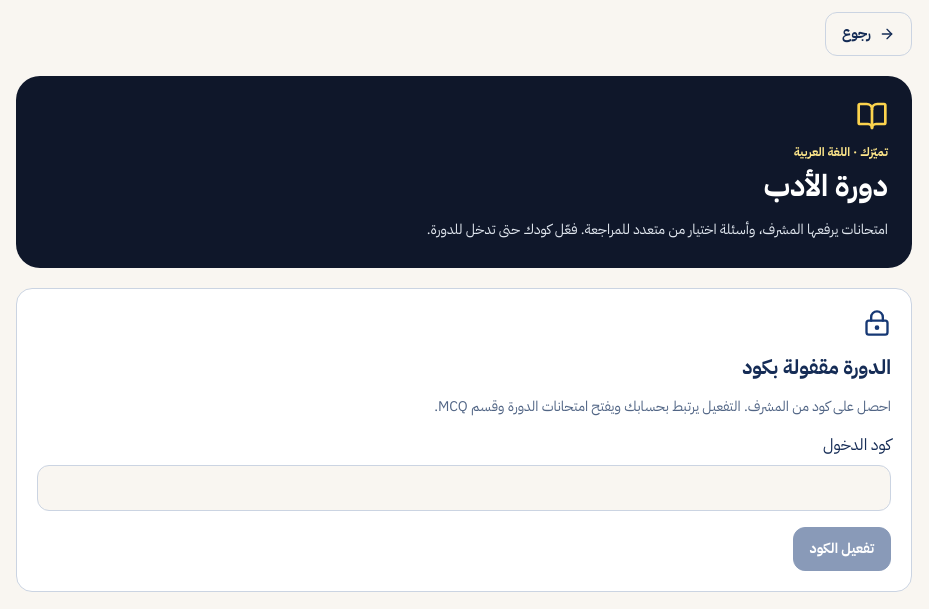
Test: literature course › opens the course after successful code redemption
Type "ADAB-VALID" into the field labelled "كود الدخول". click: (464, 488)
box: 37,465 -> 891,511
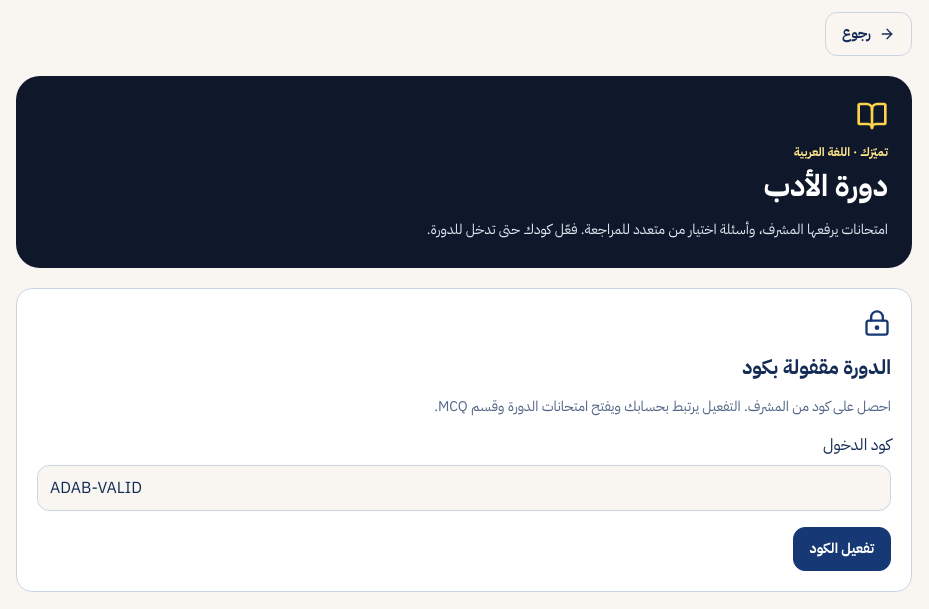
Click the button "تفعيل الكود". click: (842, 549)
box: 792,527 -> 891,571
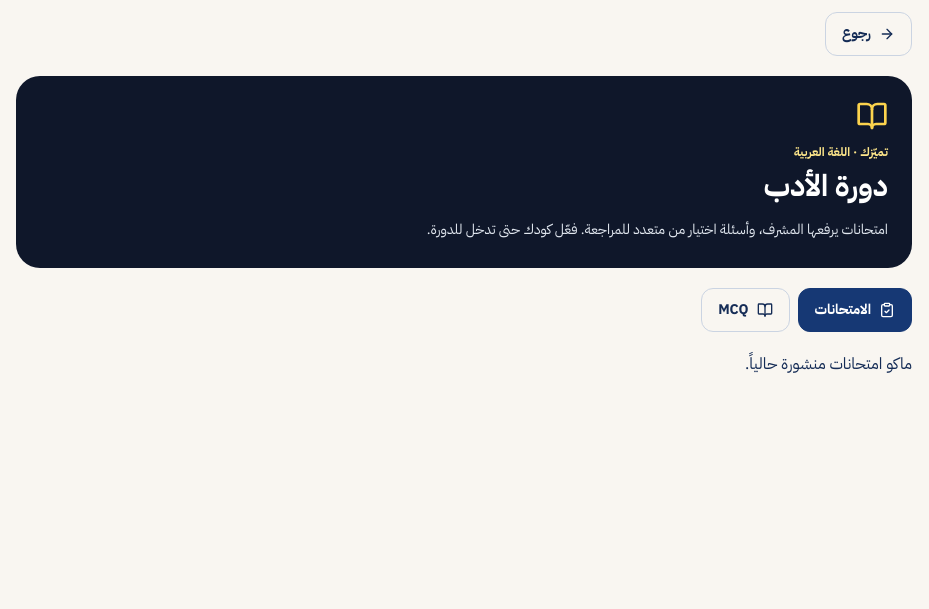
Now the button "الامتحانات" is shown, box 798,288 -> 912,332
Now the heading "الدورة مقفولة بكود" is gone
